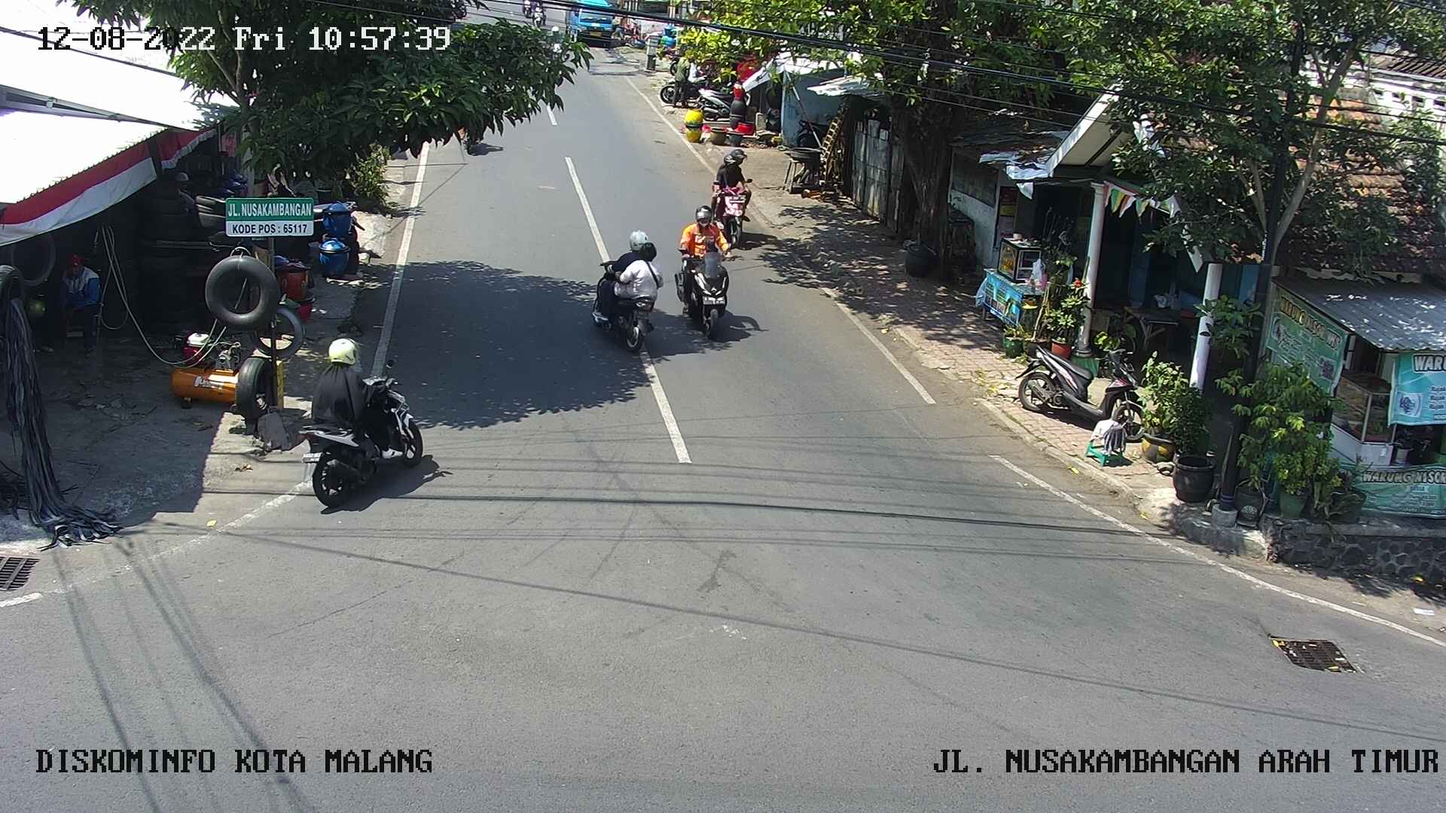with_helmet: (297, 334, 427, 509), (673, 203, 734, 342), (708, 144, 755, 242)
without_helmet: (588, 228, 669, 352)
